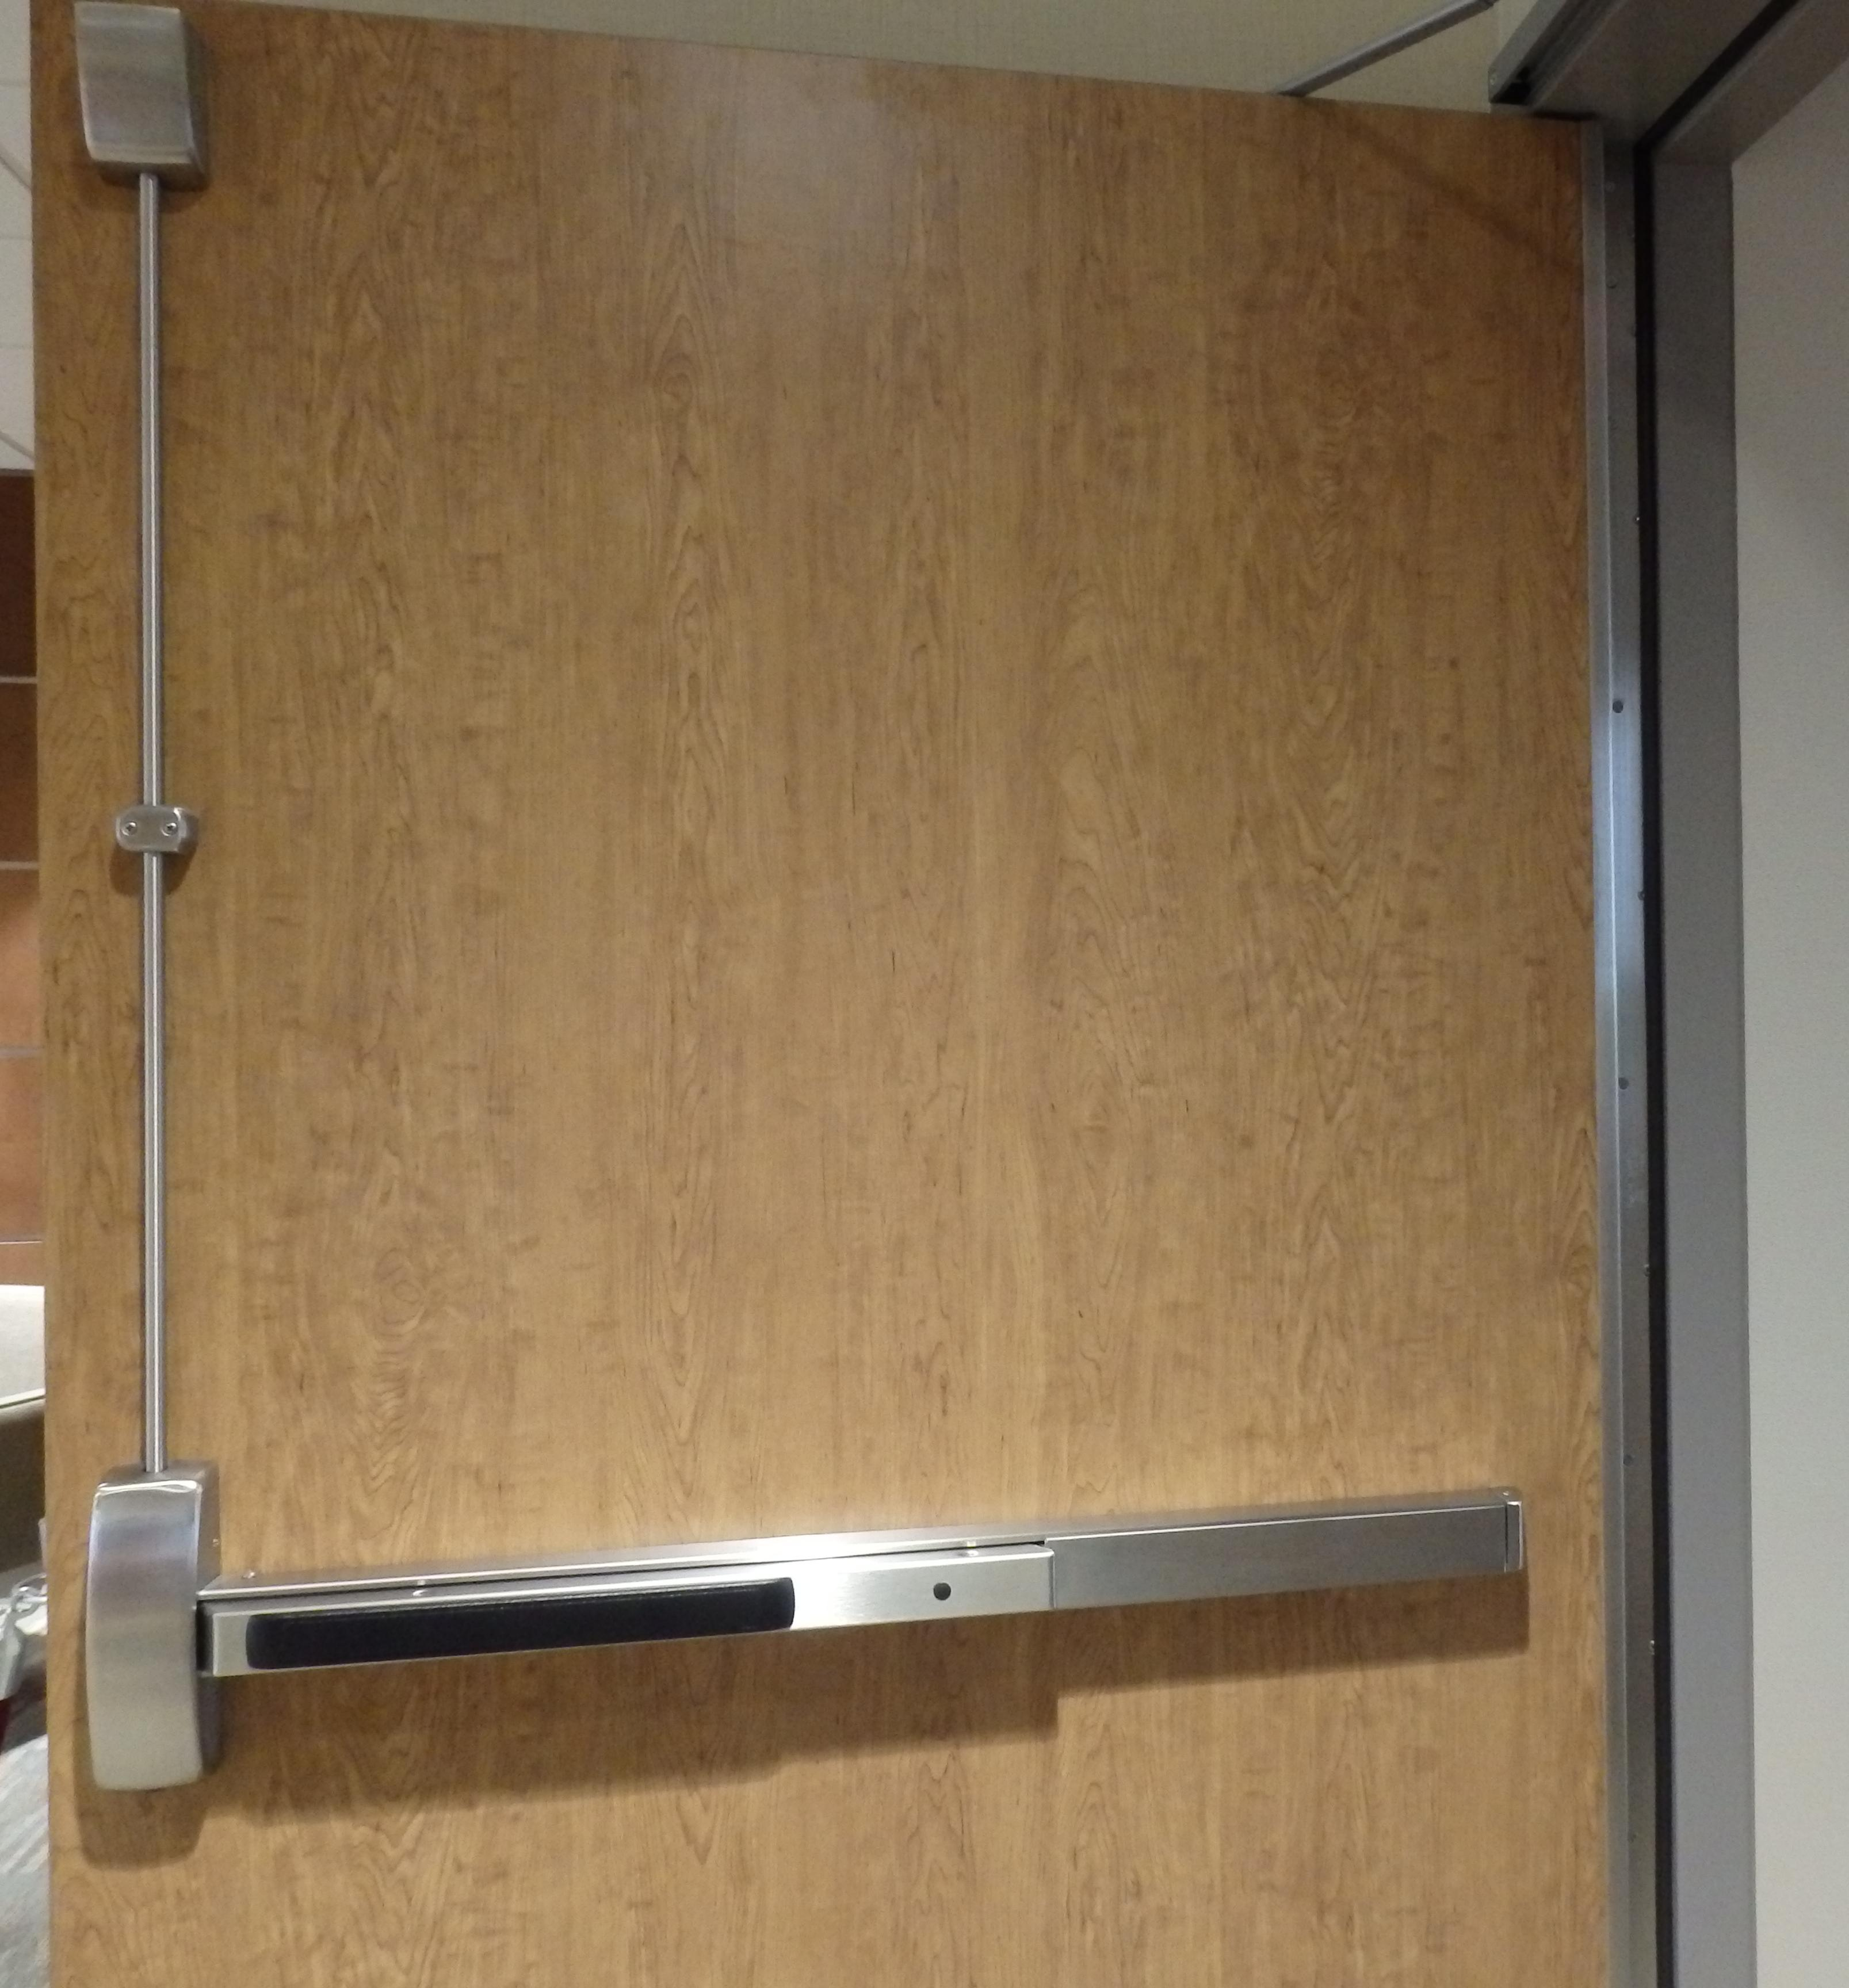door: (24, 3, 1635, 1988)
